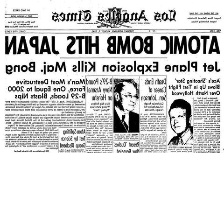news_paper: (0, 0, 224, 153)
